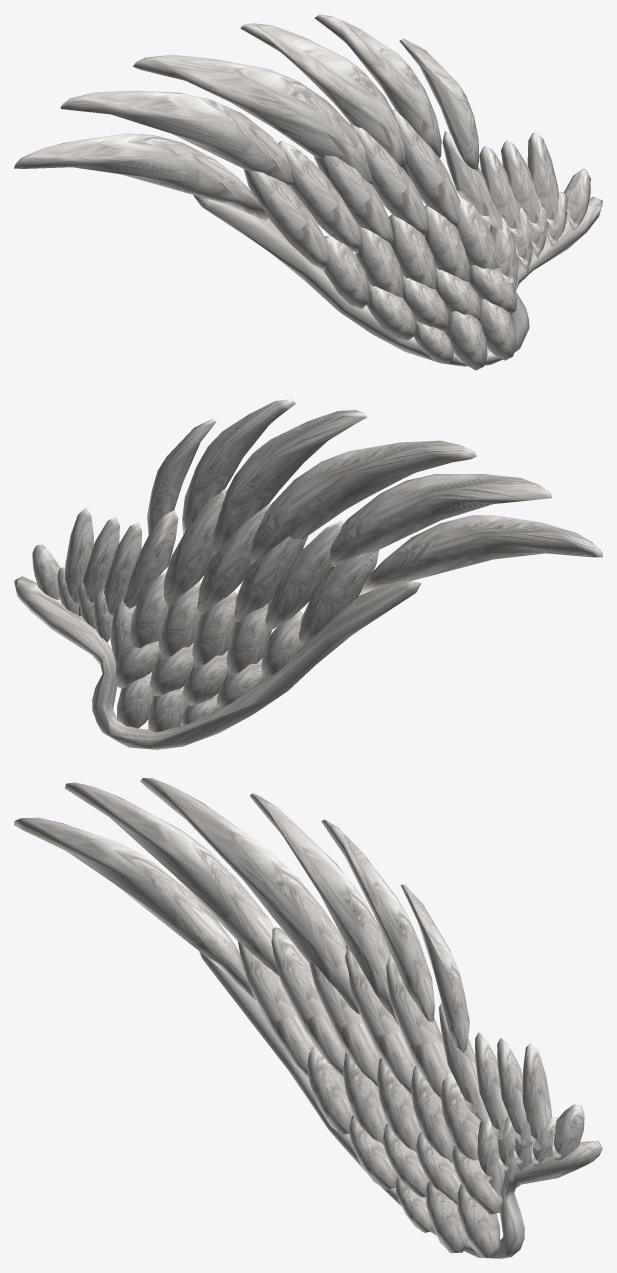
Rendered from alitas.fbx.
3 views of the same model, one above another, from view 1: azimuth 30°, elevation 25°; view 2: azimuth 150°, elevation 25°; view 3: azimuth 330°, elevation 25° (orthographic). The views are drawn at different scales.
Visible parts, largest first — view 1: Cylinder; view 2: Cylinder; view 3: Cylinder.
Boxes of the visible parts, bbox=[...] form: Cylinder: bbox=[14, 14, 602, 370]; Cylinder: bbox=[14, 399, 602, 749]; Cylinder: bbox=[14, 778, 602, 1258].
Bounding box in the file's own units: 222 × 141 × 17.23.
